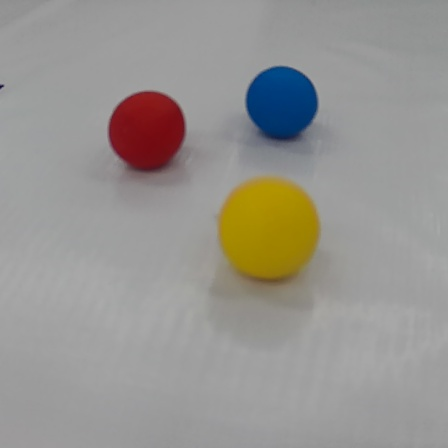blue: (244, 63, 323, 141)
red: (107, 91, 191, 173)
yellow: (219, 176, 324, 286)
